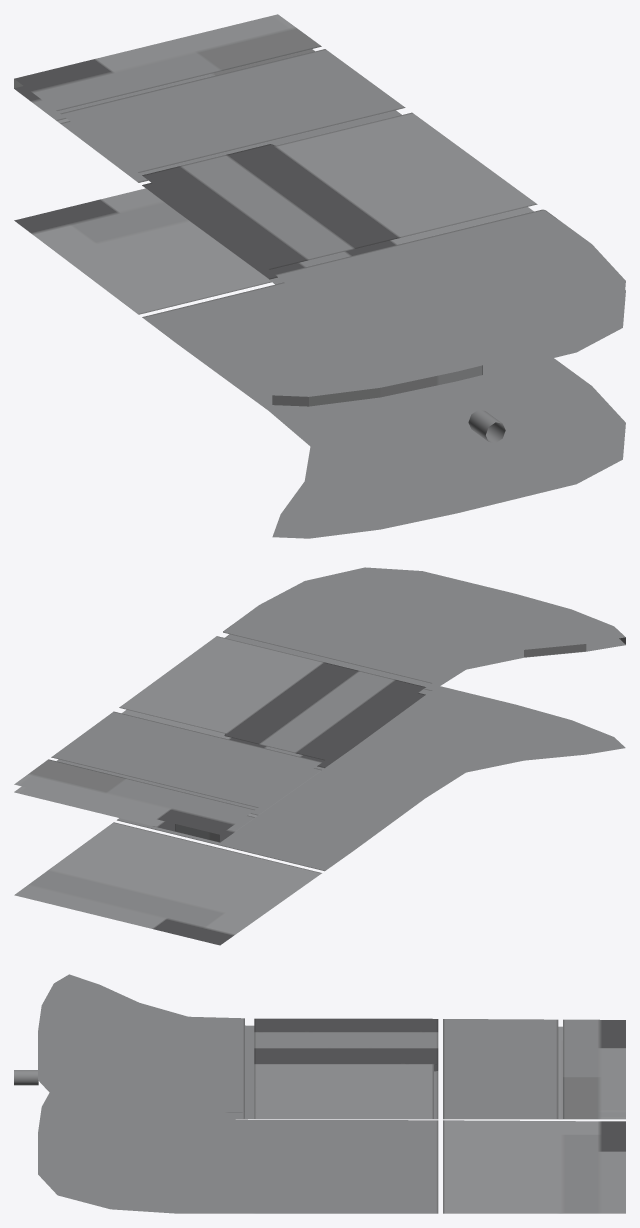
3 renders of one model, top to bottom at view 1: azimuth 30°, elevation 25°; view 2: azimuth 150°, elevation 25°; view 3: azimuth 270°, elevation 25°, orthographic. The views are drawn at different scales.
Size of the model in its own units: 1.07 by 0.366 by 2.
